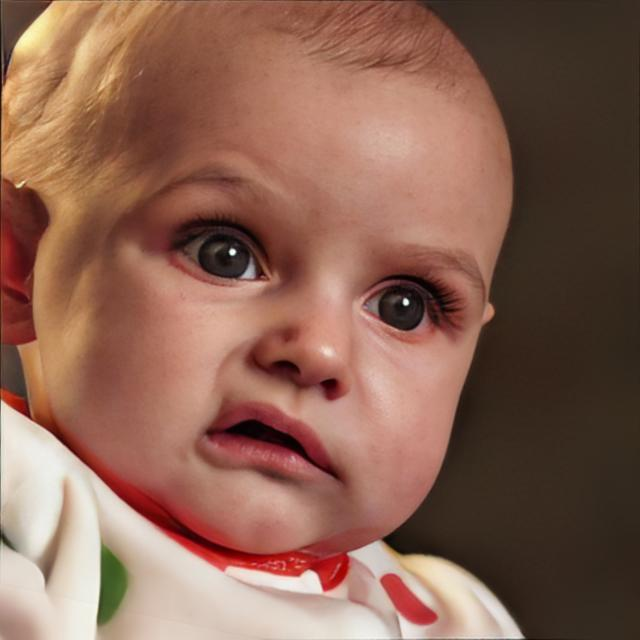Fear: (42, 3, 517, 560)
